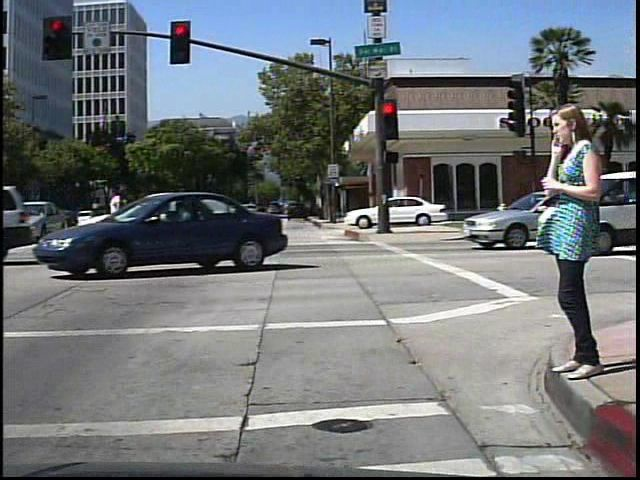person: (539, 95, 605, 391)
